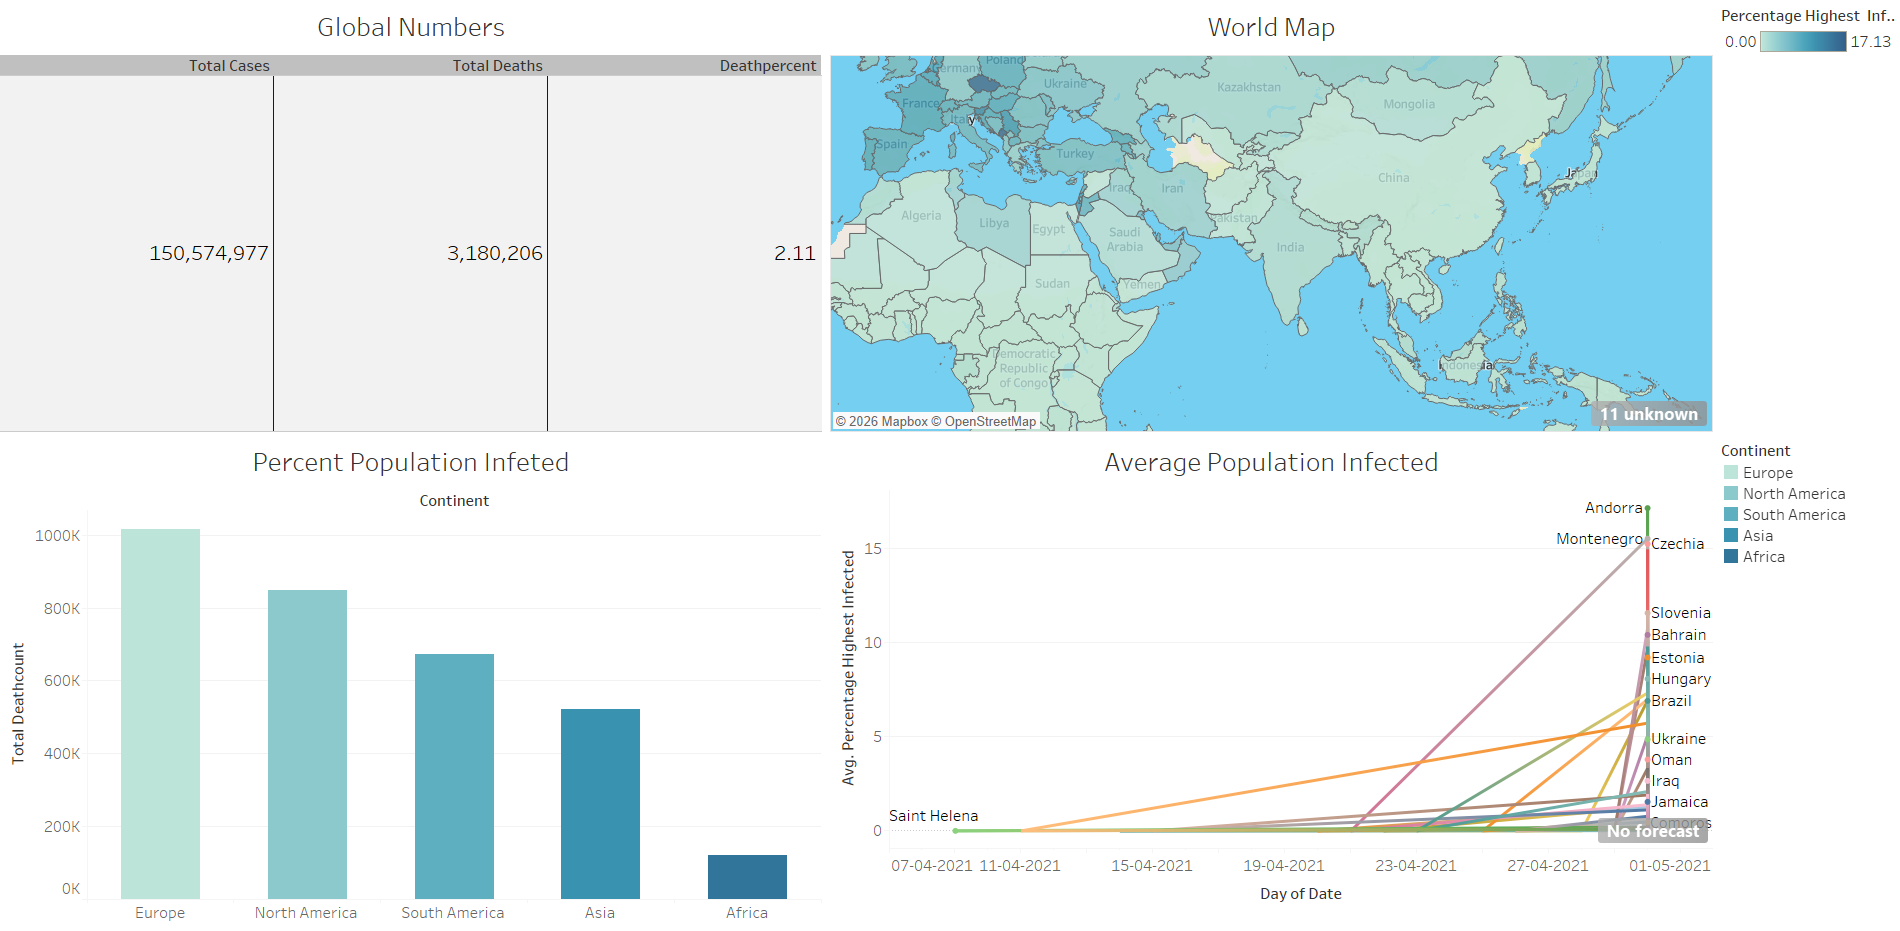

The page's visual inventory and layout, read from the dashboard file:
{"tool":"tableau","page":{"name":"COVID-19 Global Cases Dashboard","canvas":[1000,1000],"units":"permille","ordinal":0},"visuals":[{"type":"title","box":[4.8,10,990.3,62.4]},{"type":"worksheet","title":"Sheet 1","mark":"Automatic","box":[4.8,72.4,431.7,430.1]},{"type":"worksheet","title":"Sheet 3","mark":"Automatic","box":[436.5,72.4,463.4,430.1]},{"type":"legend","title":"Sheet 3","param":"[federated.0gcod3v1oy7okh13llytp19ri686].[sum:PercentageHighestPopInfected:qk]","box":[899.9,72.4,95.3,430.1]},{"type":"worksheet","title":"Sheet 2","mark":"Automatic","rows":["Total_Deathcount"],"cols":["Location"],"box":[4.8,502.5,431.7,487.5]},{"type":"worksheet","title":"Sheet 4","mark":"Automatic","rows":["PercentageHighestPopInfected"],"cols":["date"],"box":[436.5,502.5,463.4,487.5]},{"type":"legend","title":"Sheet 2","param":"[federated.1ogon1v0cya3fw177wrw21eu3snn].[none:Location:nk]","box":[899.9,502.5,95.3,487.5]}]}

Visuals, with their boxes on the dashboard's canvas, which has no fixed pixel size, in thousandths of its width and height (x1, y1, x2, y2). These are canvas units, not pixel positions in the 1900x931 screenshot, which may show the page scaled, cropped or inside an application window:
title: bbox(5, 10, 995, 72)
"Sheet 1" worksheet: bbox(5, 72, 436, 502)
"Sheet 3" worksheet: bbox(436, 72, 900, 502)
"Sheet 3" legend: bbox(900, 72, 995, 502)
"Sheet 2" worksheet: bbox(5, 502, 436, 990)
"Sheet 4" worksheet: bbox(436, 502, 900, 990)
"Sheet 2" legend: bbox(900, 502, 995, 990)
